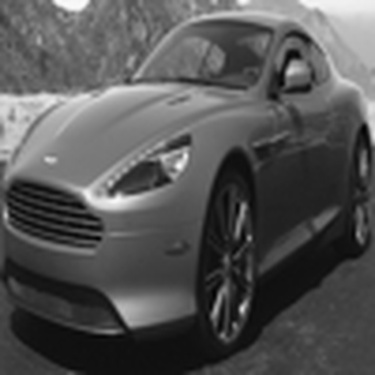car: (6, 6, 369, 369)
